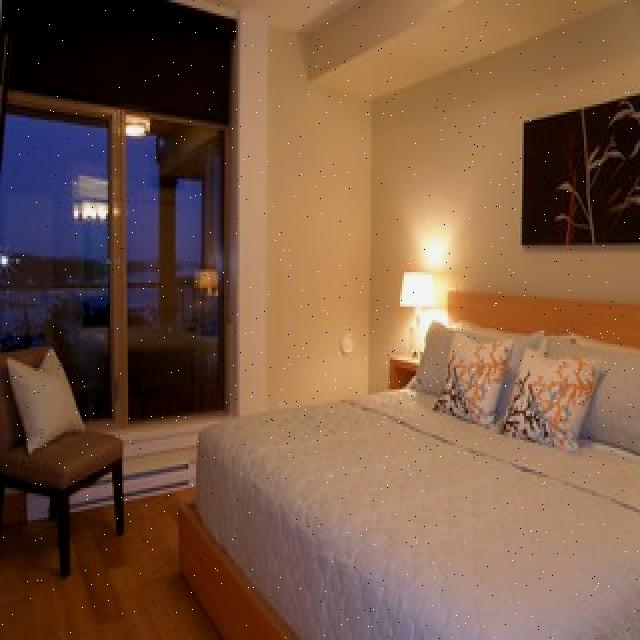bed: (204, 296, 637, 640)
